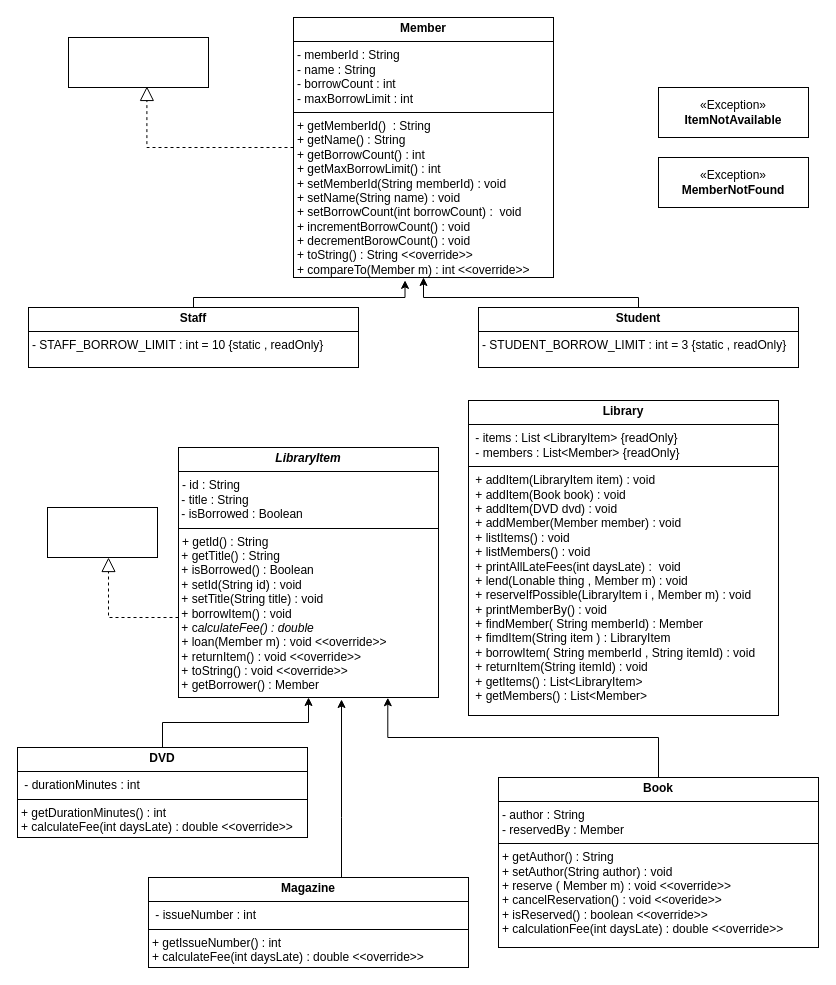
The diagram is 836 pixels wide and 985 high, and some of its shapes have lost their labels. The shapes that lost their labels are listed below. From the top down, each one's centre as x and y in pixels, then its label:
pixel 138 62: «interface» Compare <Member>
pixel 102 532: «interface» Loanable
